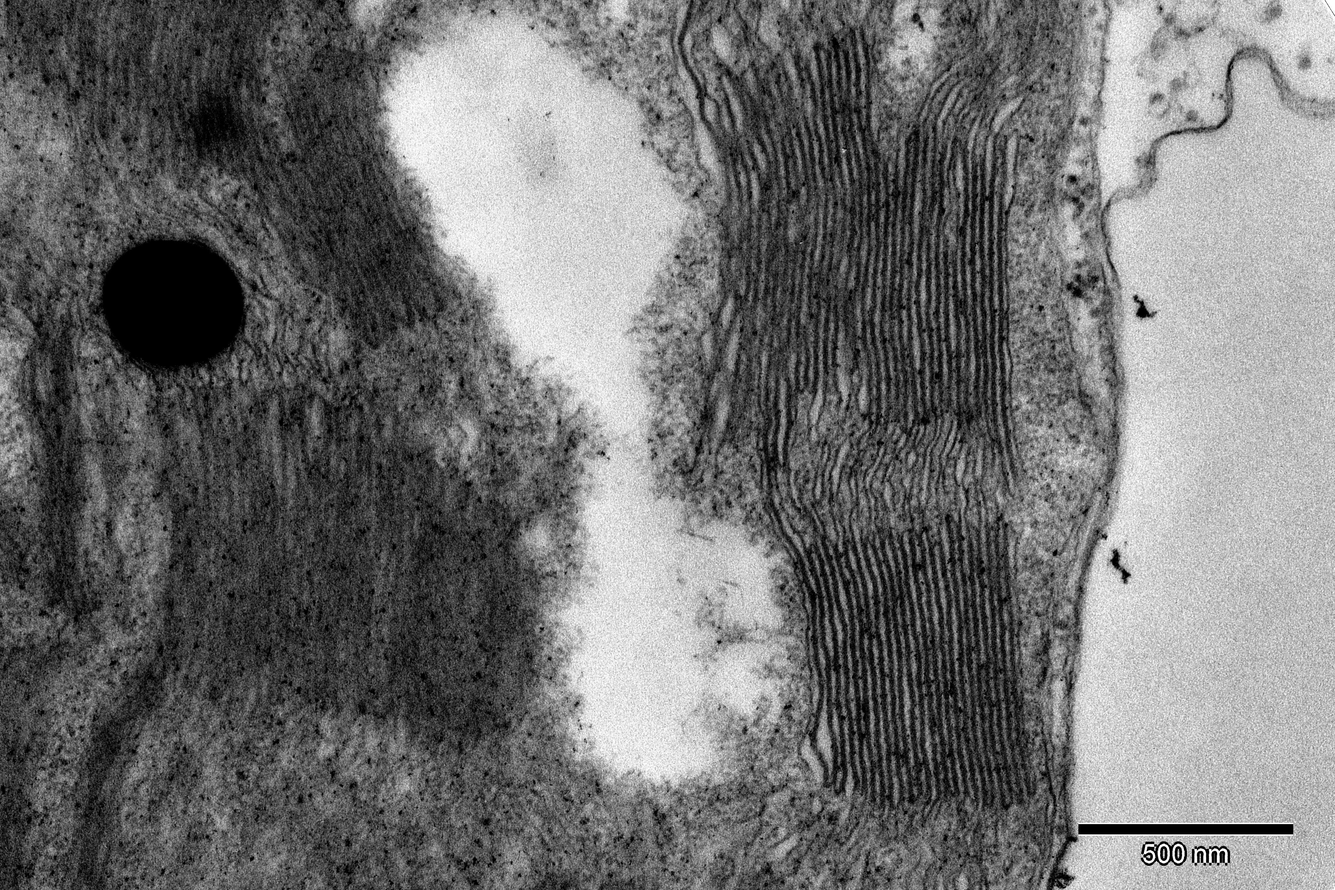granum: (122, 358, 549, 759), (690, 19, 1031, 474), (775, 509, 1044, 818), (245, 36, 461, 354), (0, 0, 313, 189), (12, 388, 109, 614), (0, 633, 73, 890)
